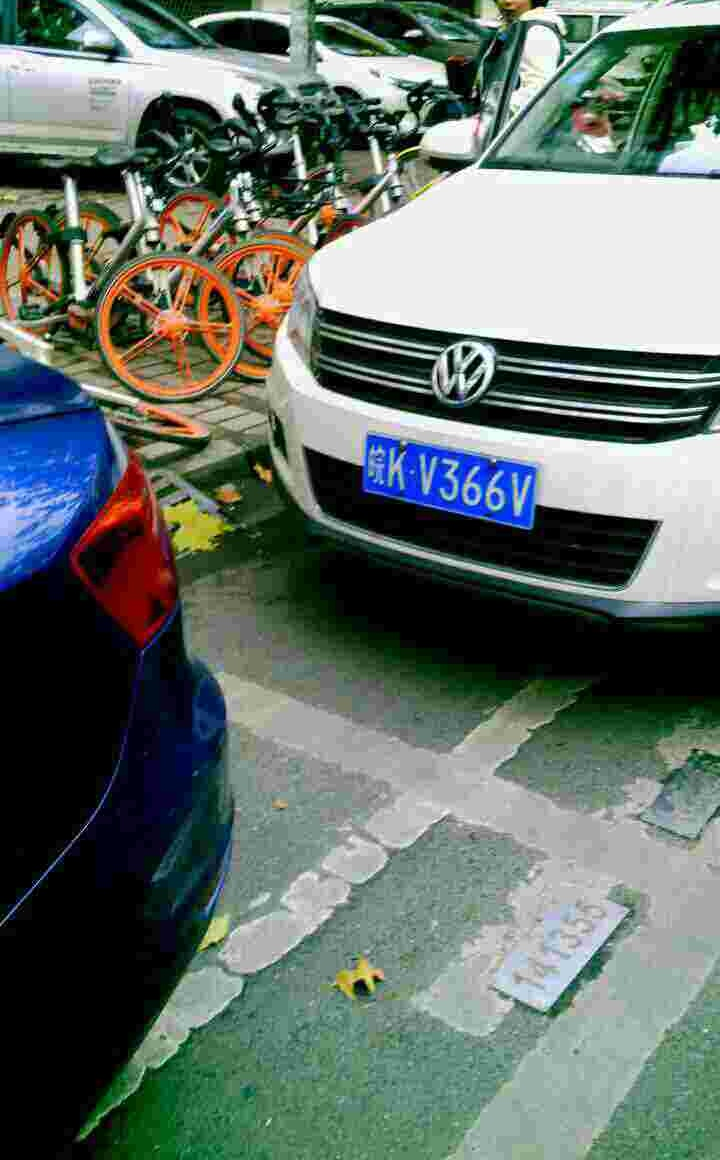license_plate: (356, 429, 531, 533)
